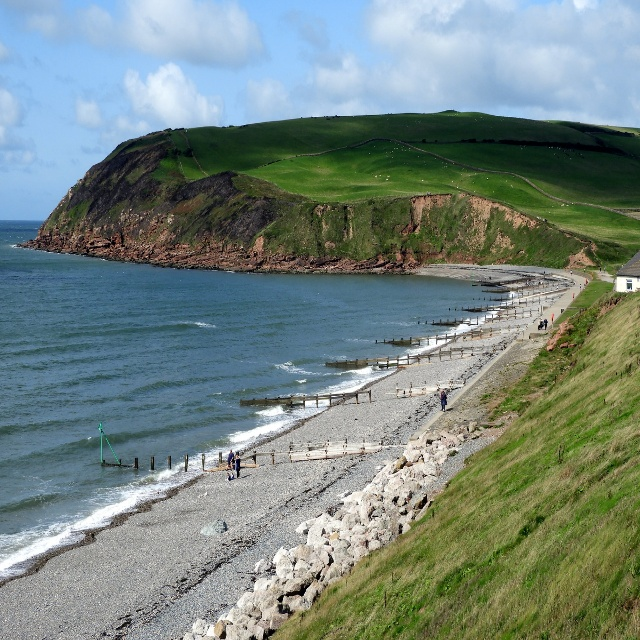linhaEspraiamento: (2, 449, 228, 585), (149, 390, 346, 496), (292, 340, 444, 422), (379, 304, 501, 364), (456, 275, 542, 314), (416, 270, 472, 288)
